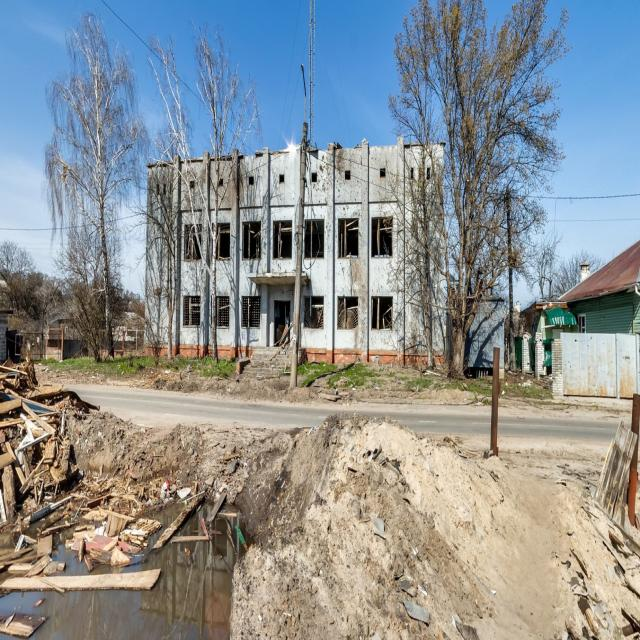broken_window: (371, 215, 393, 258), (337, 218, 359, 258), (272, 219, 292, 260), (304, 218, 324, 259), (370, 294, 392, 330), (242, 220, 260, 260), (337, 295, 358, 329), (303, 294, 324, 328), (184, 222, 202, 260), (241, 295, 260, 327), (215, 222, 230, 260), (183, 295, 200, 326), (216, 296, 229, 328)
building: (144, 136, 448, 367)
roof: (557, 238, 640, 303)
